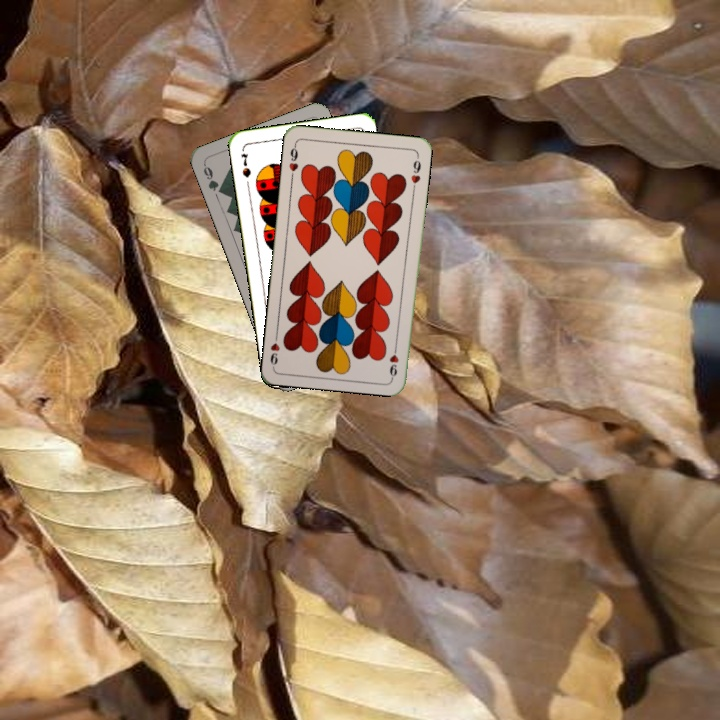G9: (199, 160, 226, 197)
H9: (285, 140, 301, 181), (386, 339, 401, 380)
S7: (237, 149, 253, 180)
